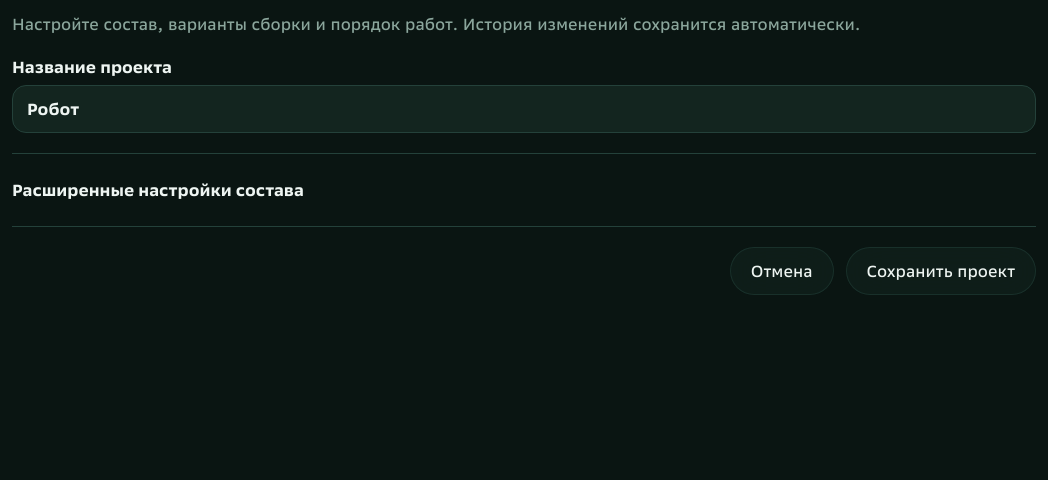
Test: ProjectManifestEditor › не затирает форму и явно предлагает перечитать проект при конфликте изменений
Replace the text in the field labelled "Название проекта" with "Моя несохранённая правка": (524, 109) [12, 85, 1036, 133]
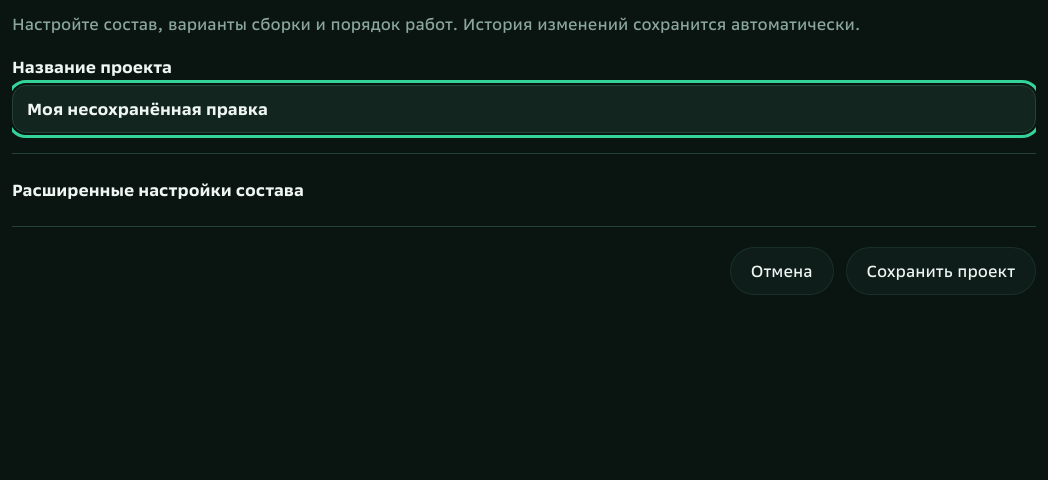
Click the button "Сохранить проект": (941, 271) [846, 247, 1036, 295]
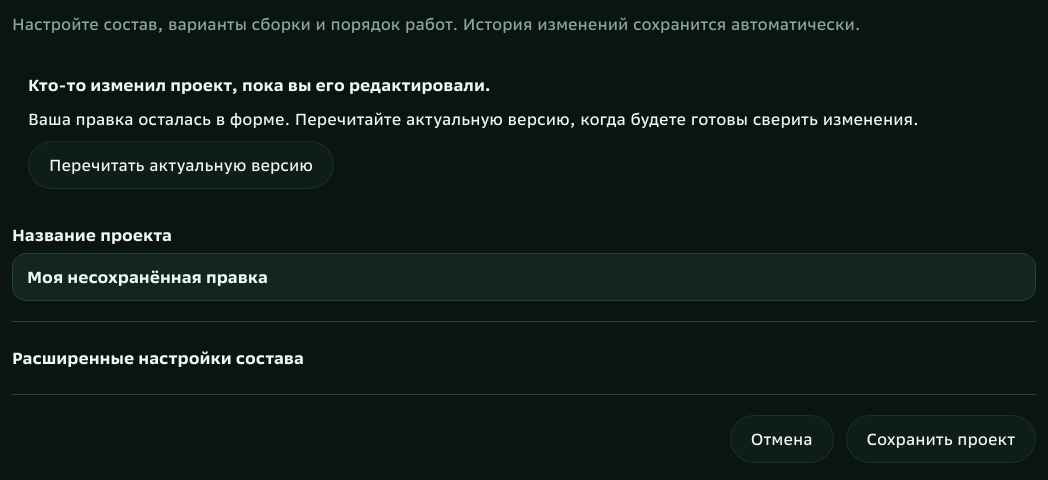
Expected: the message shows "Кто-то изменил проект", [28, 75, 491, 95]
Expected: the button "Перечитать актуальную версию" is enabled, [28, 141, 334, 189]
